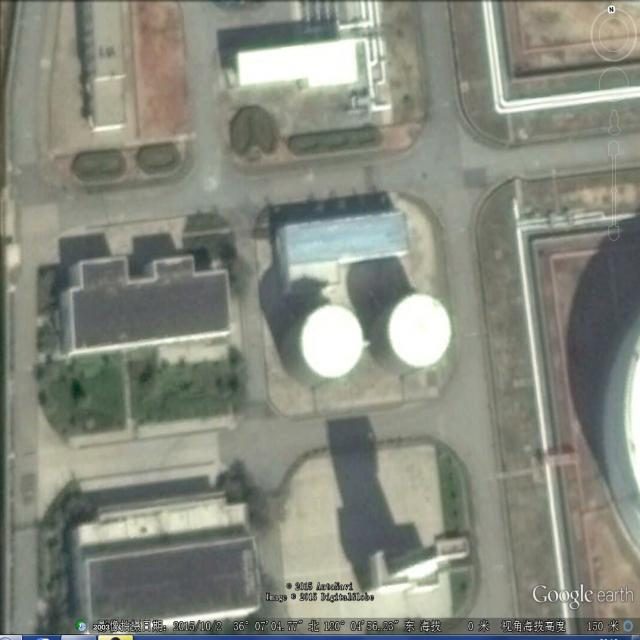oiltank: (282, 301, 367, 393), (371, 290, 456, 380)
